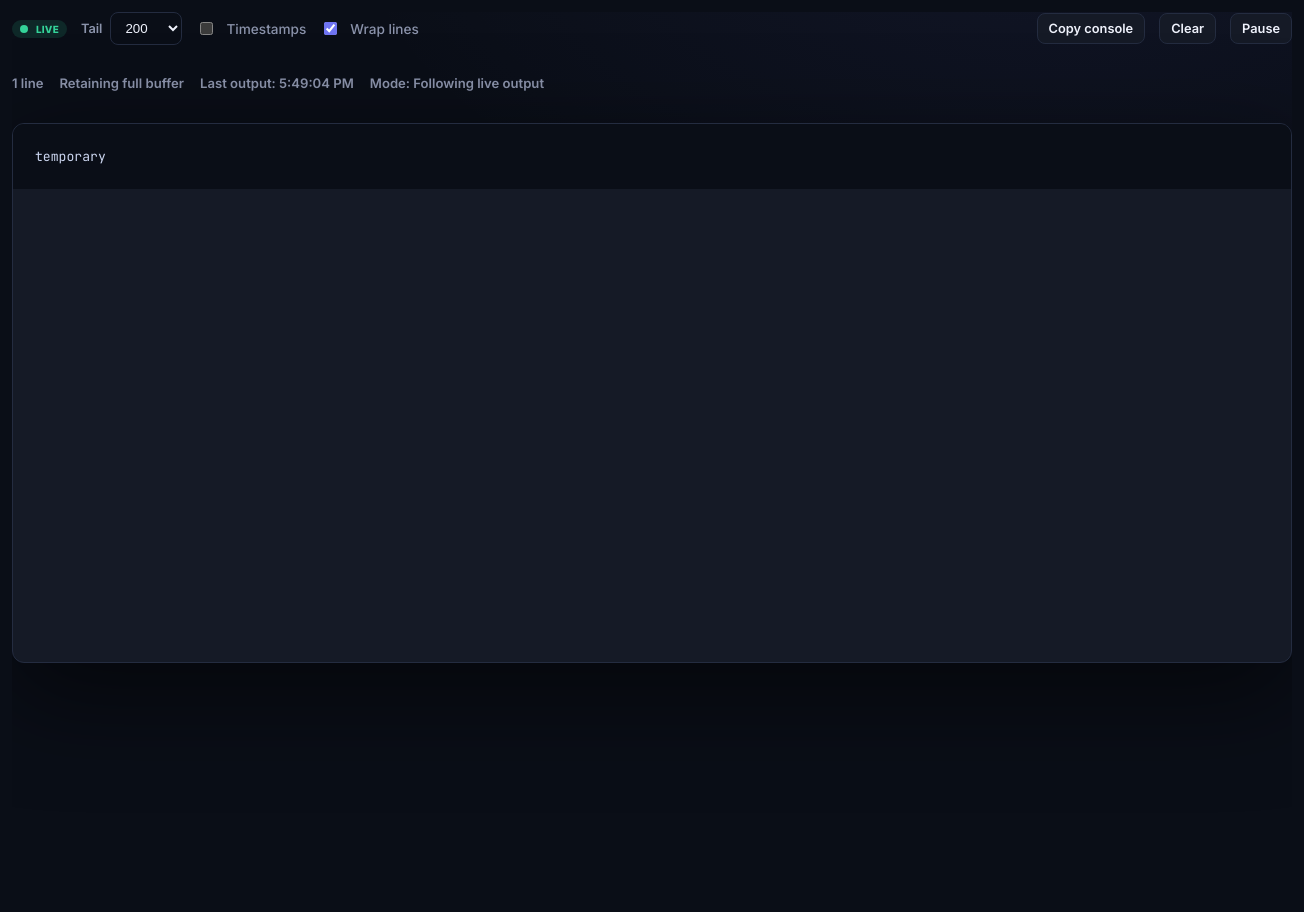
Test: ConsolePanel › Clear empties the console
The width and height of the screenshot is (1304, 912).
Check: the element showing "temporary" is shown, box left=13, top=124, right=1291, bottom=189
Click the button "Clear" at (1188, 28), box left=1159, top=13, right=1216, bottom=44
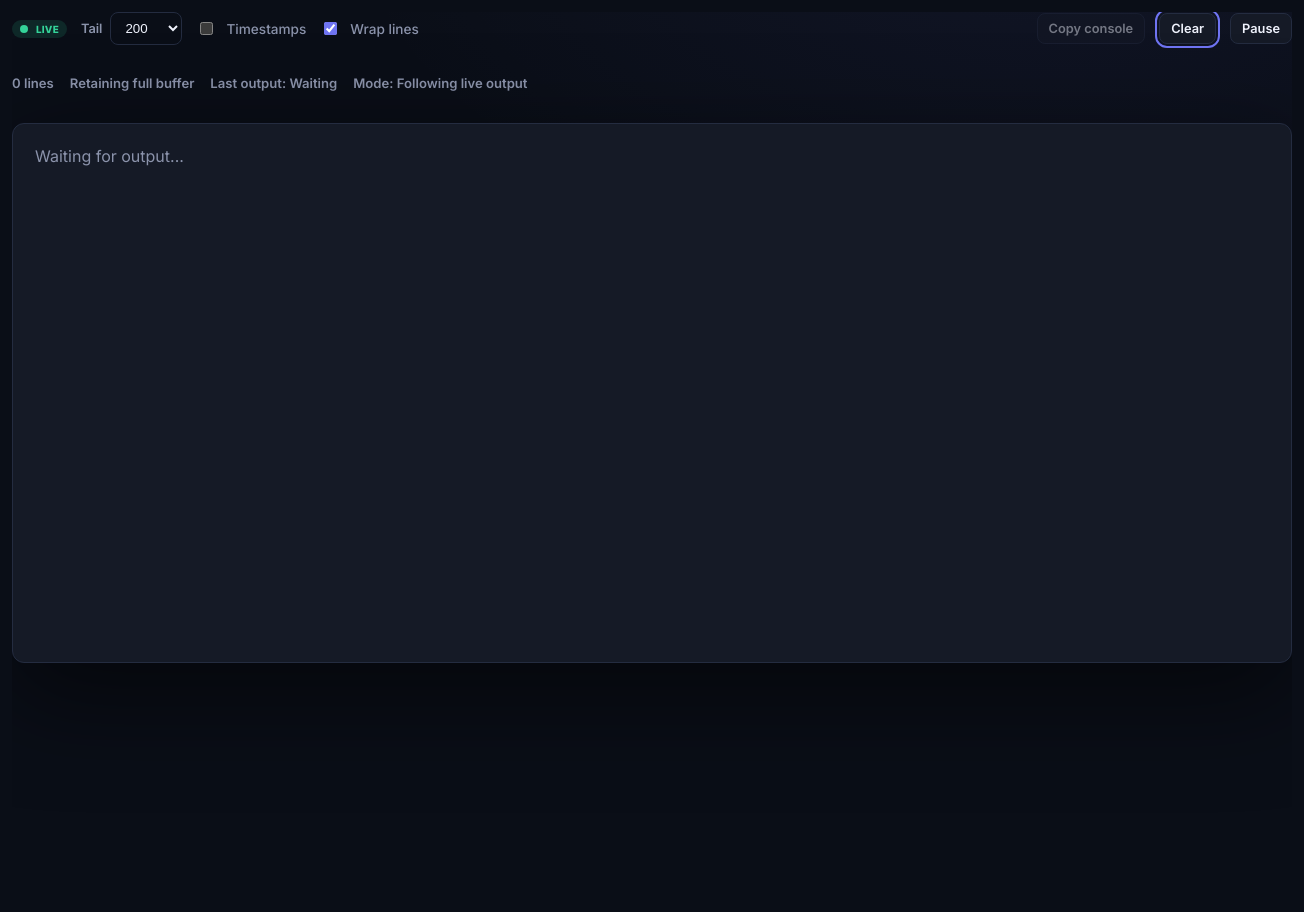
Check: the text "0 lines" is shown, box left=12, top=75, right=54, bottom=91
